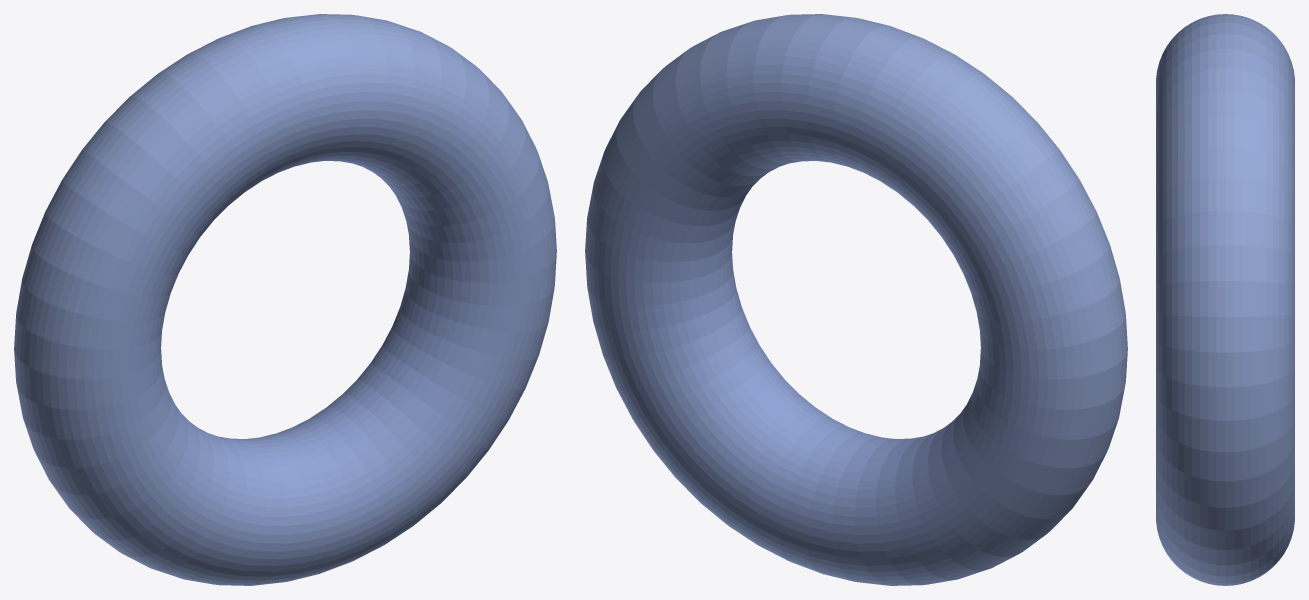
3 renders of one model, left to right at view 1: azimuth 30°, elevation 25°; view 2: azimuth 150°, elevation 25°; view 3: azimuth 270°, elevation 25°, orthographic. The views are drawn at different scales.
Visible parts, largest first — view 1: world; view 2: world; view 3: world.
Boxes of the visible parts, left/top/right/bottom form: world: left=14, top=14, right=556, bottom=585; world: left=585, top=14, right=1127, bottom=585; world: left=1156, top=14, right=1294, bottom=585.
Size of the model in its own units: 20.27 by 20.23 by 4.92.
